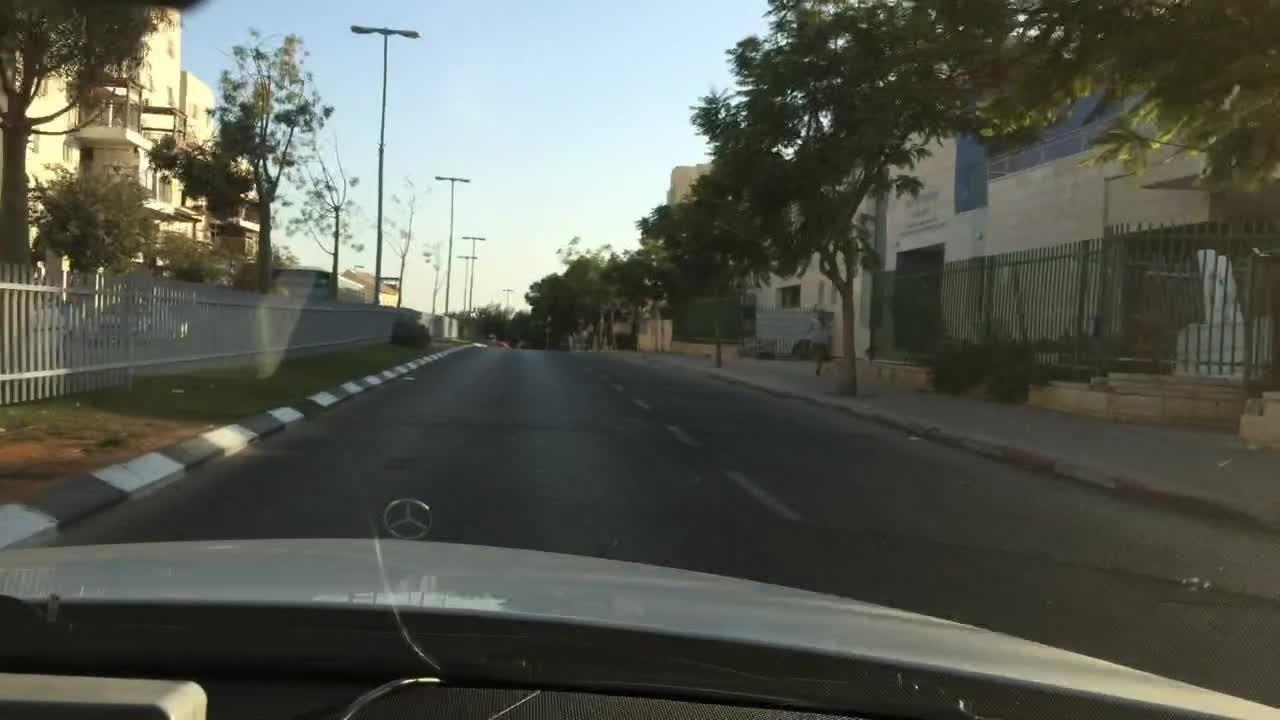Mercedes: (371, 484, 436, 549)
